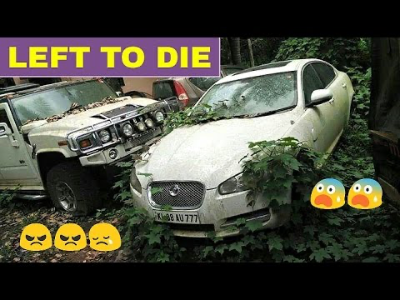licence: (151, 208, 202, 229)
